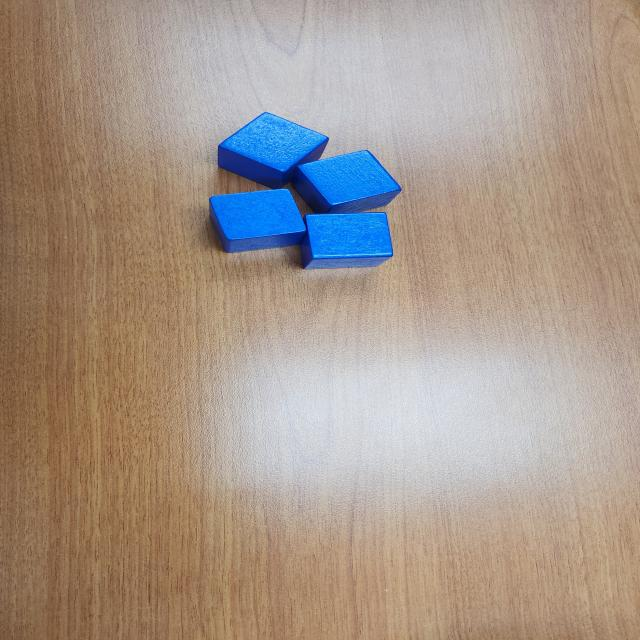blue: (217, 110, 331, 190), (293, 150, 403, 213), (208, 188, 308, 256), (299, 211, 394, 270)
